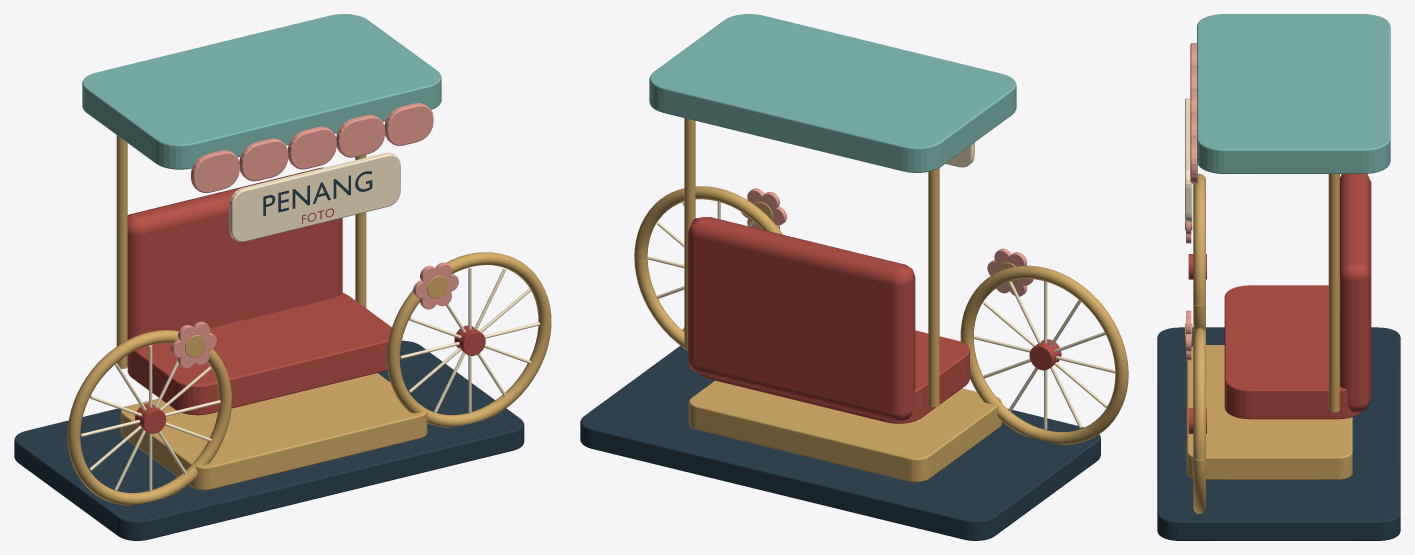
3 views of the same model, side by side, from view 1: azimuth 30°, elevation 25°; view 2: azimuth 150°, elevation 25°; view 3: azimuth 270°, elevation 25° (orthographic). The views are drawn at different scales.
Visible parts, largest first — view 1: Penang | Trishaw Photo Booth - Cabinetry, Penang | Trishaw Photo Booth - Structure, Penang | Trishaw Photo Booth - Graphics, Penang | Trishaw Photo Booth - Metalwork; view 2: Penang | Trishaw Photo Booth - Cabinetry, Penang | Trishaw Photo Booth - Structure, Penang | Trishaw Photo Booth - Metalwork, Penang | Trishaw Photo Booth - Graphics; view 3: Penang | Trishaw Photo Booth - Cabinetry, Penang | Trishaw Photo Booth - Structure, Penang | Trishaw Photo Booth - Metalwork, Penang | Trishaw Photo Booth - Graphics.
Boxes of the visible parts, x1,y1,x2,y2 form: Penang | Trishaw Photo Booth - Cabinetry: (14,14,524,540); Penang | Trishaw Photo Booth - Structure: (127,167,342,359); Penang | Trishaw Photo Booth - Graphics: (135,103,485,433); Penang | Trishaw Photo Booth - Metalwork: (67,135,551,505); Penang | Trishaw Photo Booth - Cabinetry: (580,14,1100,540); Penang | Trishaw Photo Booth - Structure: (688,217,915,421); Penang | Trishaw Photo Booth - Metalwork: (634,118,1128,444); Penang | Trishaw Photo Booth - Graphics: (741,142,1061,370); Penang | Trishaw Photo Booth - Cabinetry: (1157,14,1400,540); Penang | Trishaw Photo Booth - Structure: (1340,174,1371,412); Penang | Trishaw Photo Booth - Metalwork: (1193,173,1339,513); Penang | Trishaw Photo Booth - Graphics: (1185,43,1206,433).
Size of the model in its own units: 2.99 by 2.17 by 1.32.
